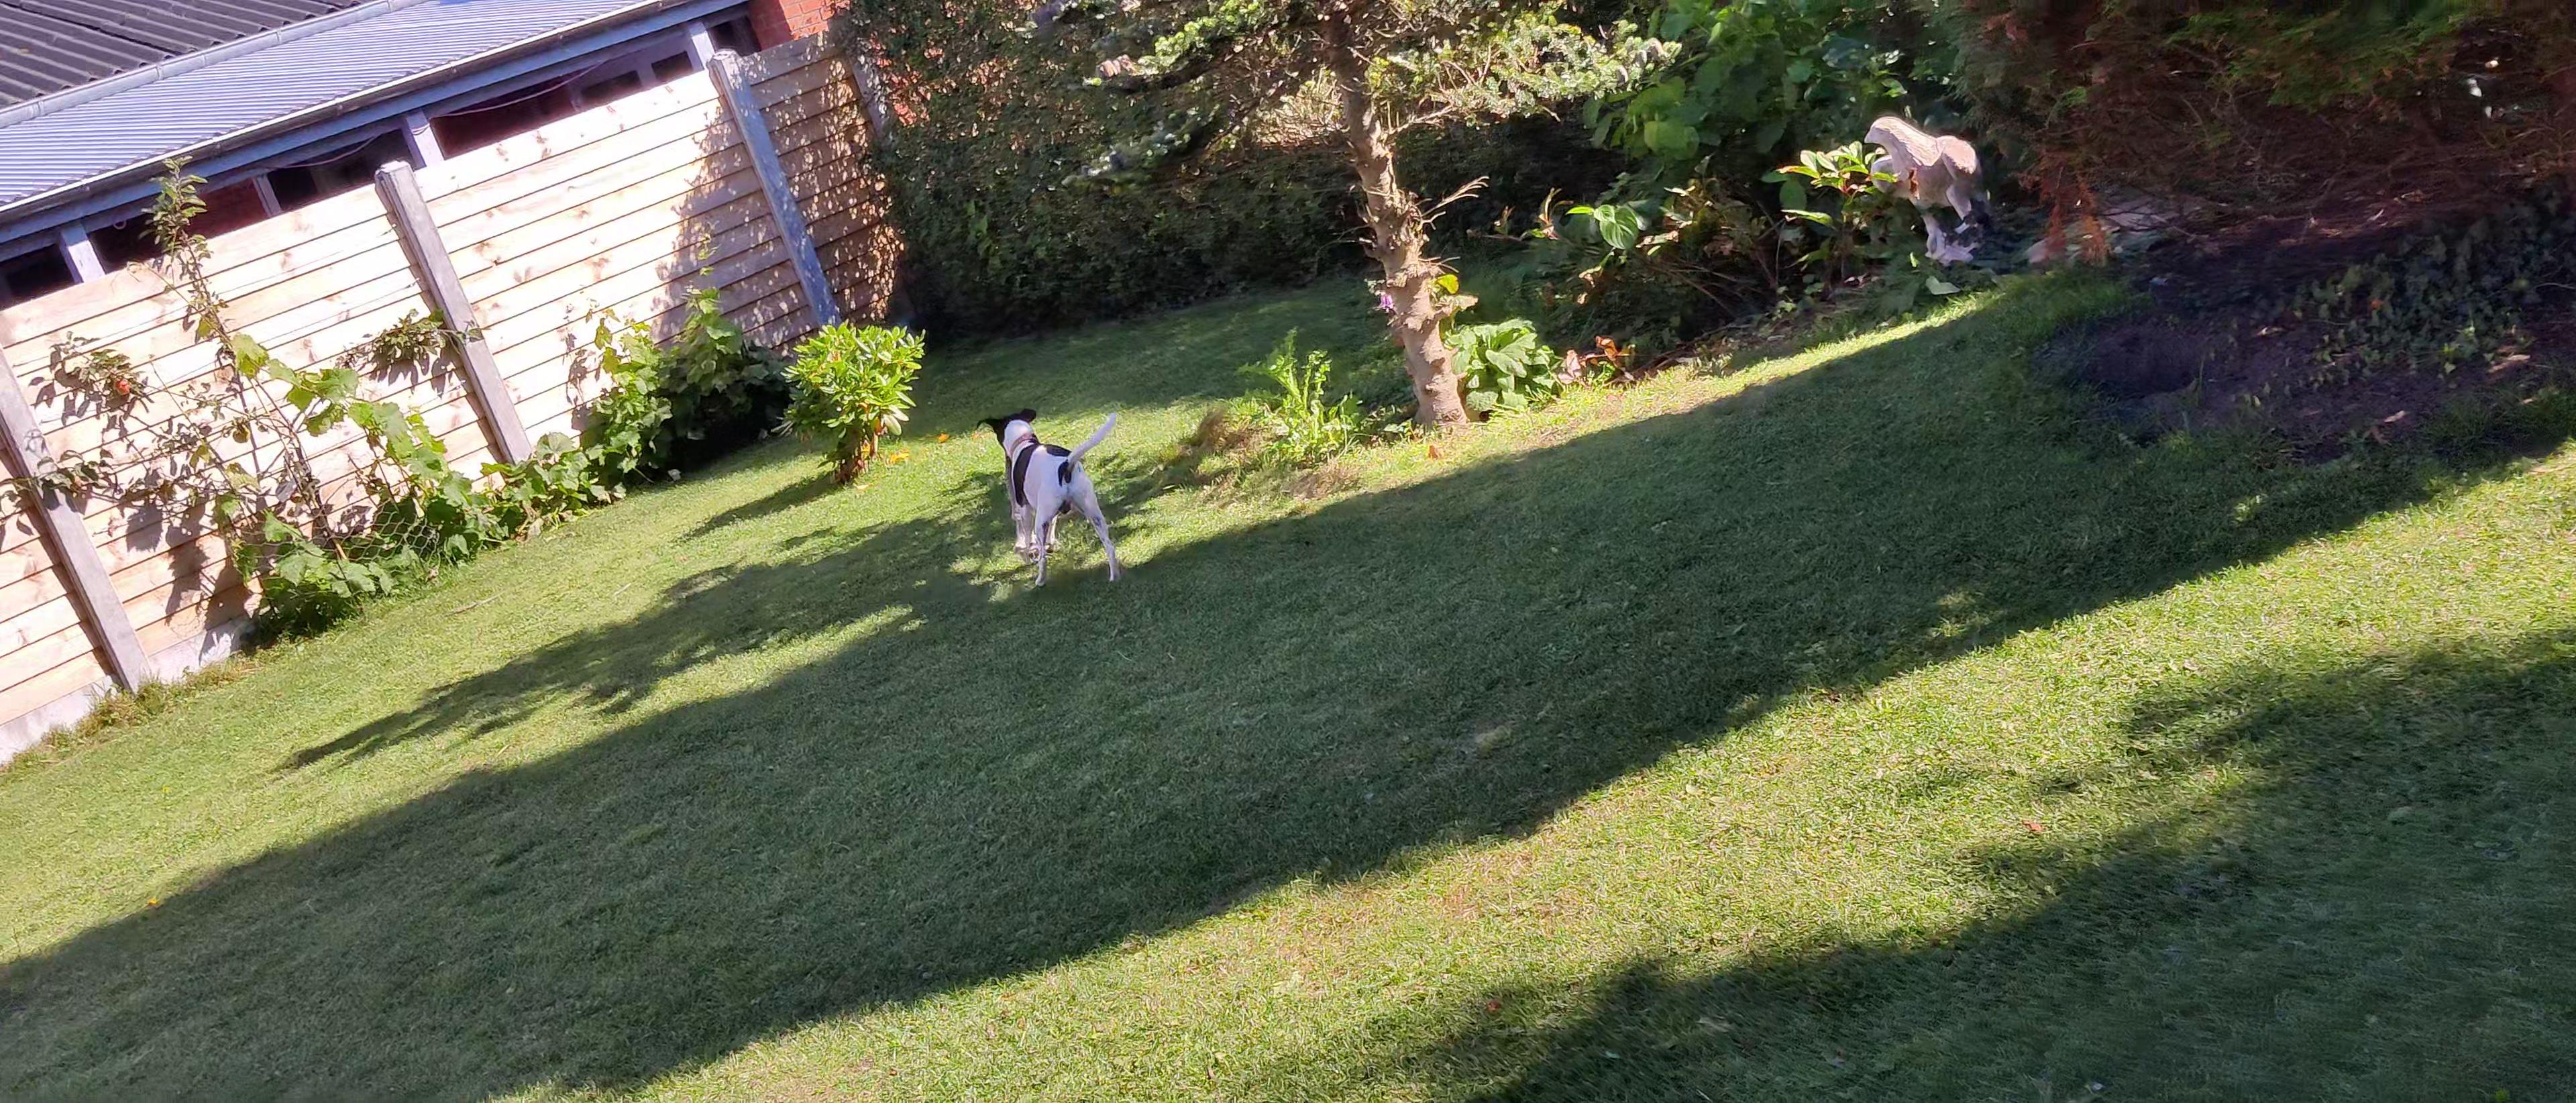Dog: (971, 398, 1140, 592)
